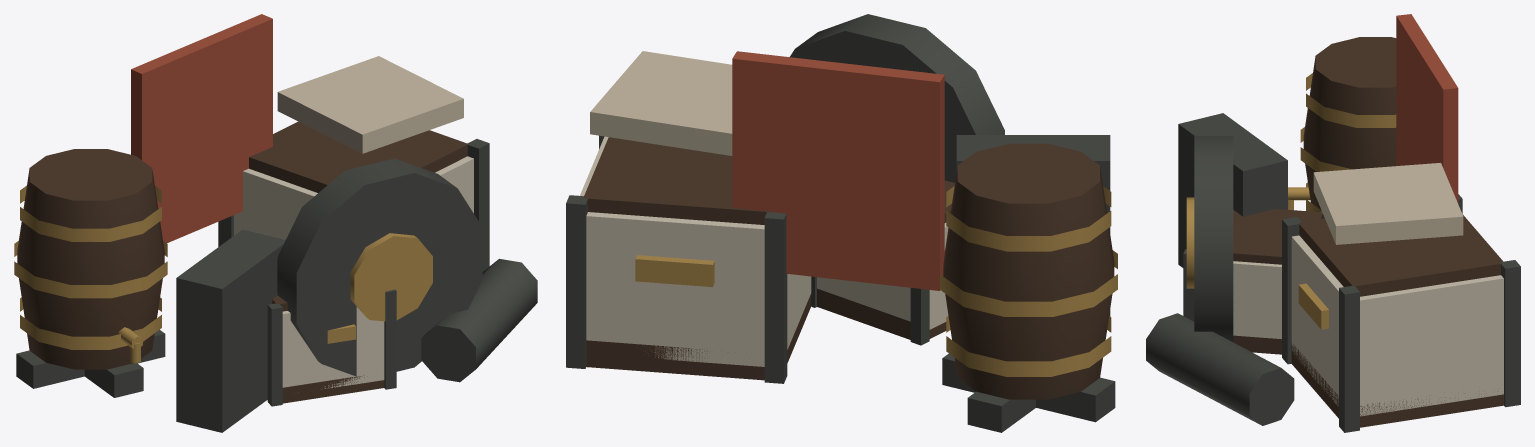
The model's file is junk_pile.glb.
3 renders of one model, left to right at view 1: azimuth 30°, elevation 25°; view 2: azimuth 150°, elevation 25°; view 3: azimuth 270°, elevation 25°, orthographic. The views are drawn at different scales.
Parts seen in each view (by area): view 1: junk_pile; view 2: junk_pile; view 3: junk_pile.
Part boxes in pixels (left/top/right/bottom): junk_pile: left=14, top=14, right=537, bottom=432; junk_pile: left=566, top=14, right=1117, bottom=432; junk_pile: left=1146, top=14, right=1520, bottom=432.
Bounding box in the file's own units: 1.96 × 1.12 × 1.45.
